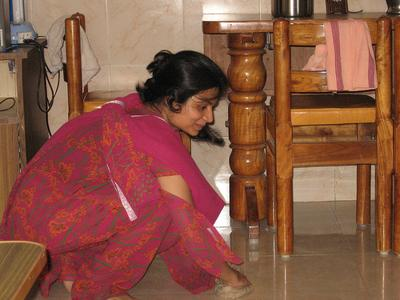person: (1, 50, 254, 300)
